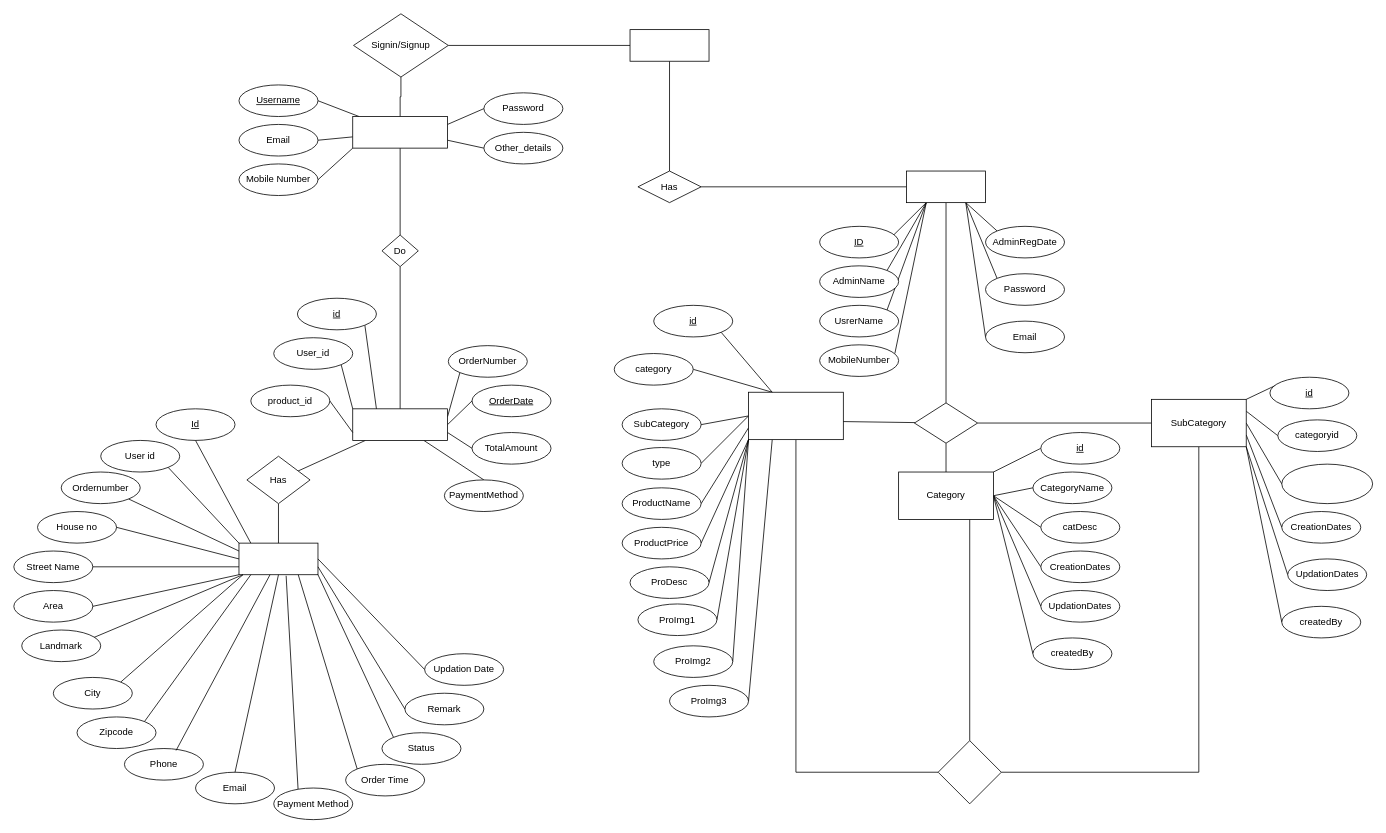
Some shapes in this 1386 by 833 pixel diagram are drawn without their labels. The shapes that lost their labels are listed below. From the top down, each one's centre as x and y in pixels, then its label:
At [669,45]: "E-farm".
At [400,132]: "User".
At [946,186]: "Admin".
At [400,424]: "Order".
At [795,415]: "Products".
At [946,422]: "Add".
At [1327,483]: "subcategoryNamw".
At [278,558]: "Order Address".
At [969,772]: "Belongs".
